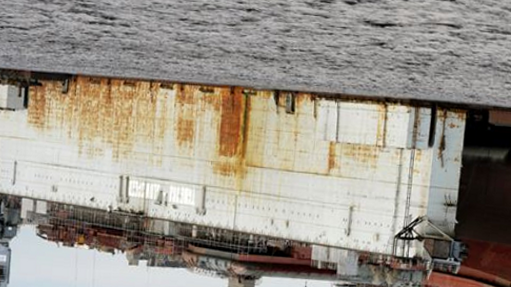rust: (26, 78, 159, 129), (212, 86, 251, 178), (269, 89, 314, 167), (322, 139, 389, 177), (174, 82, 200, 150), (438, 110, 465, 162)
